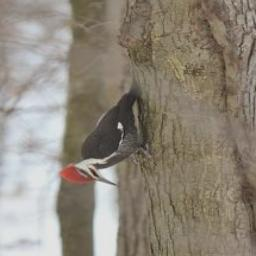Woodpecker: (58, 70, 161, 187)
